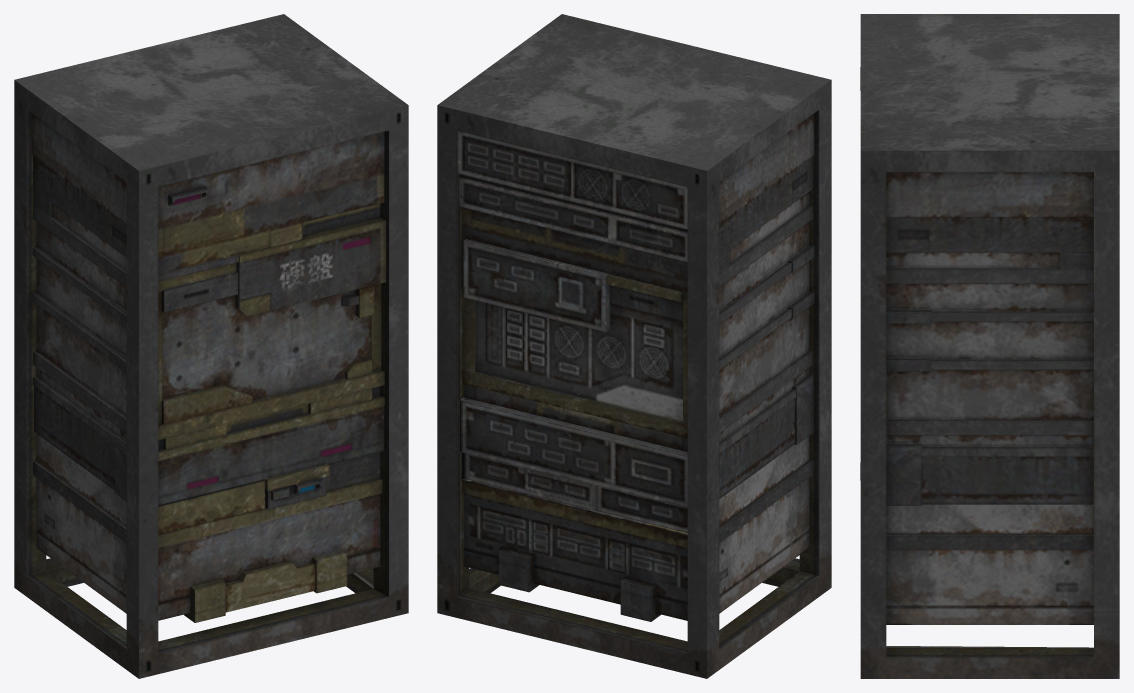
The model's file is server_data_01.DAE.
3 renders of one model, left to right at view 1: azimuth 30°, elevation 25°; view 2: azimuth 150°, elevation 25°; view 3: azimuth 270°, elevation 25°, orthographic. The views are drawn at different scales.
Visible parts, largest first — view 1: server_data_01; view 2: server_data_01; view 3: server_data_01.
Part boxes in pixels (<box>): server_data_01: <box>14,14,408,678</box>; server_data_01: <box>437,14,831,678</box>; server_data_01: <box>860,14,1119,678</box>.
Size of the model in its own units: 100 by 80.1 by 180.
